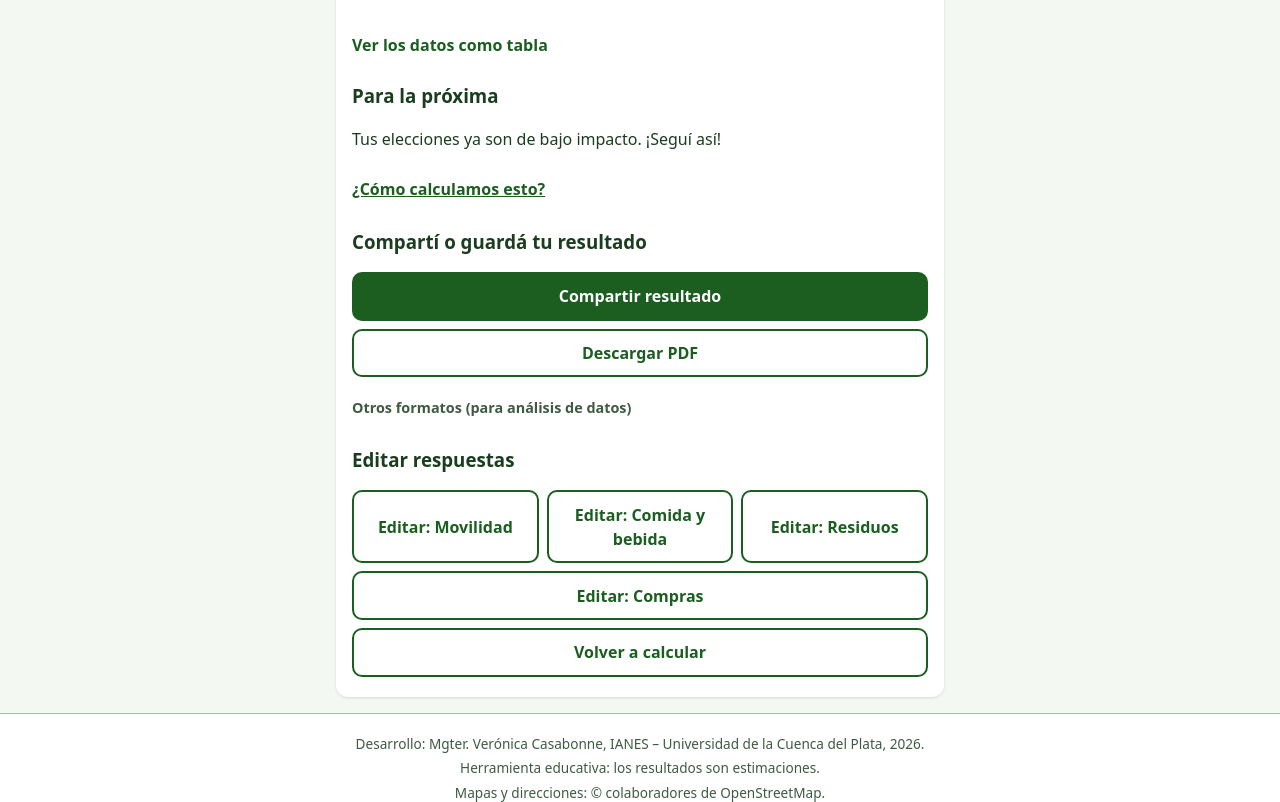
Scenario: resultados › "Descargar PDF" genera el PDF con el nombre por fecha; CSV y JSON quedan como opción secundaria
(page scrolled)
Check: the button "Descargar datos (CSV)" is not shown
What coordinates should you click on to do the following:
click the button "Descargar PDF"
I would click on:
 (640, 353)
Its box is x1=352 y1=328 x2=928 y2=377.
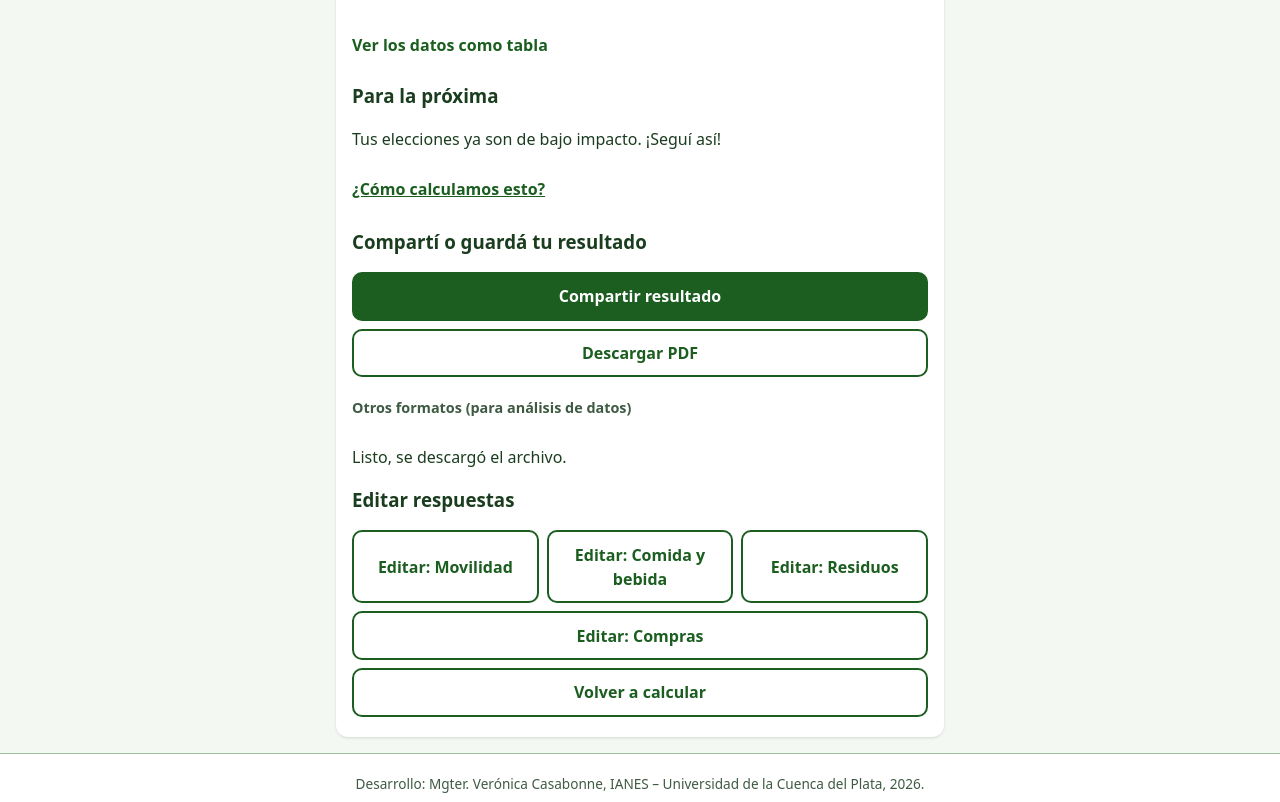
Check: the text "Listo, se descargó el archivo." is shown, box x1=352 y1=446 x2=567 y2=468
What coordinates should you click on to do the following:
click the heading "Otros formatos (para análisis de datos)"
I would click on:
 (492, 407)
Its box is x1=352 y1=398 x2=631 y2=416.
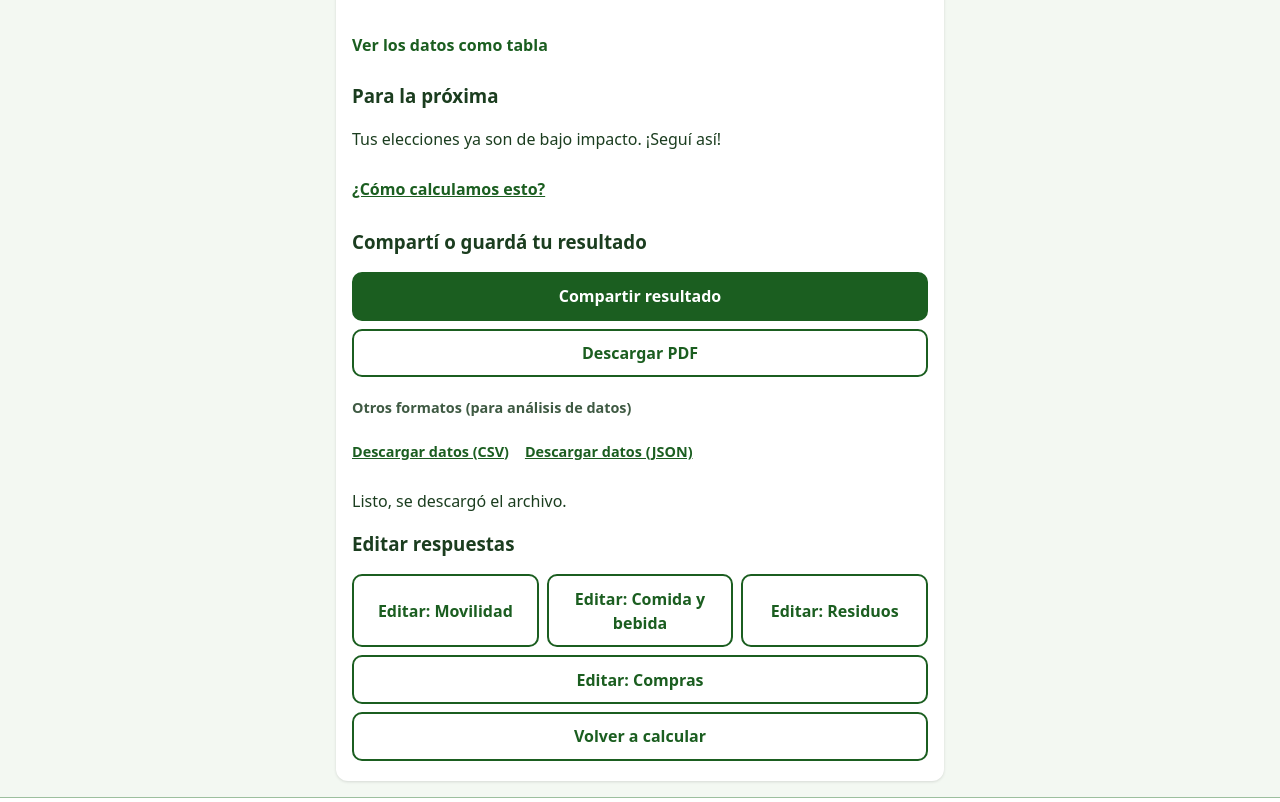
Check: the button "Descargar datos (CSV)" is shown, box x1=352 y1=429 x2=509 y2=473
Check: the button "Descargar datos (JSON)" is shown, box x1=525 y1=429 x2=692 y2=473
